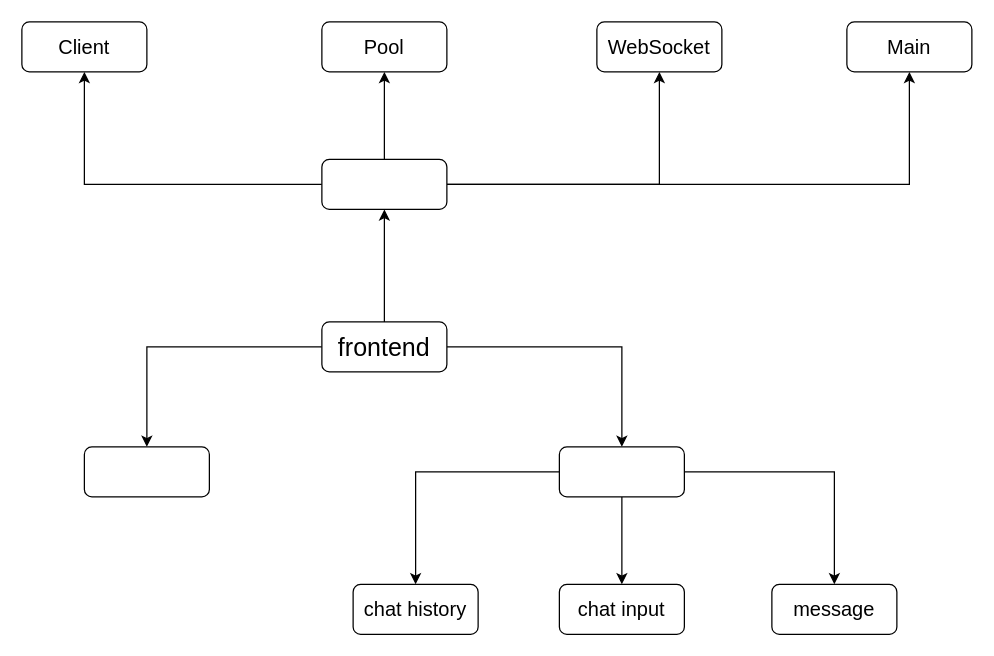
Image size: 994x656. Some labels were removed from this diagram. The shapes that lost their labels are listed below. From the top down, each one's centre as x and y in pixels, then its label:
point (384, 183): backend
point (146, 471): API
point (621, 471): Components
